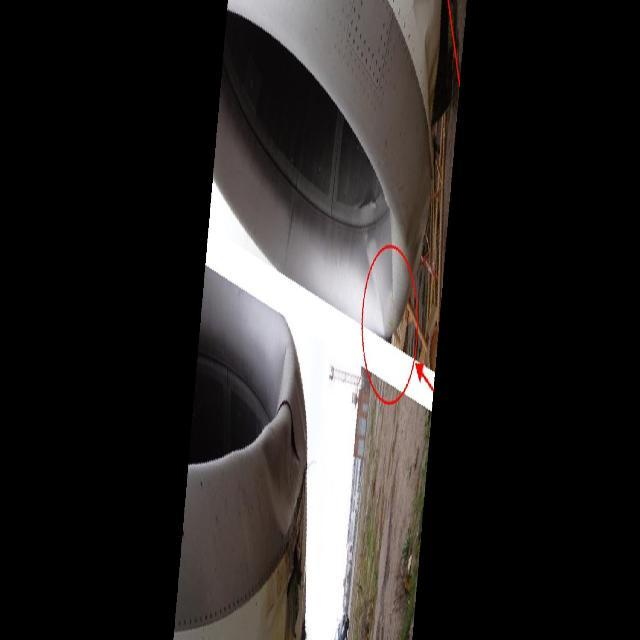dent: (353, 215, 413, 346), (263, 439, 302, 531)
